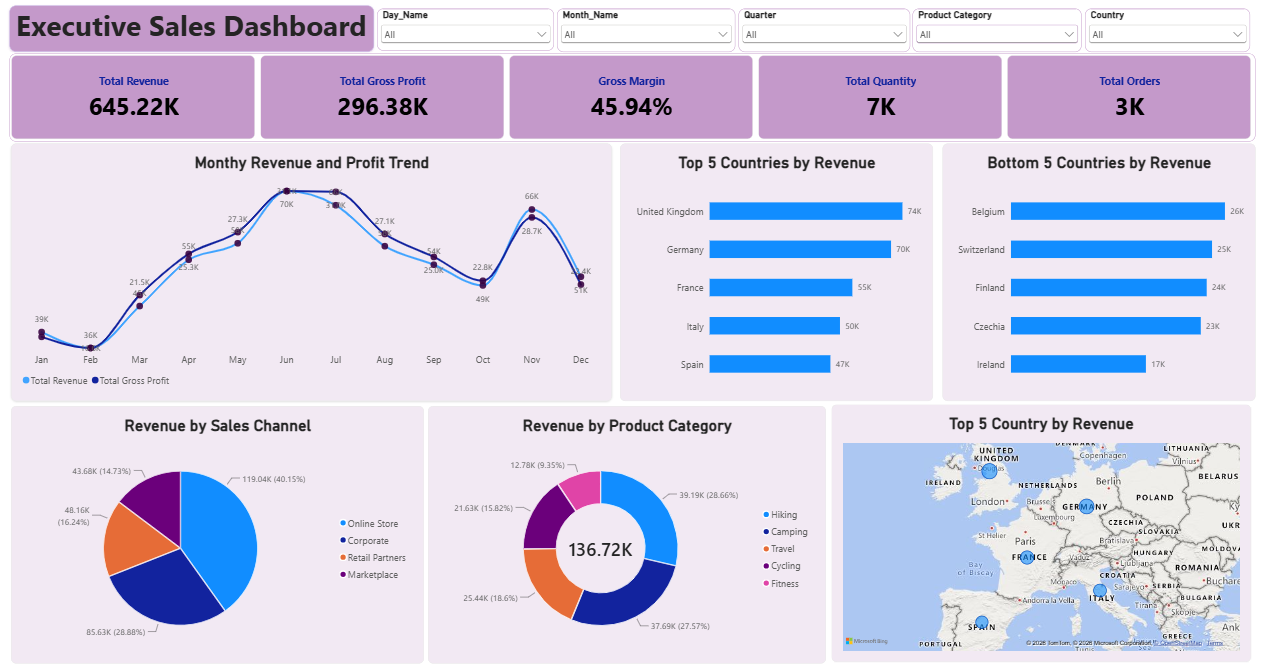

What the dashboard file says about the page in this screenshot:
{"tool":"powerbi","page":{"name":"Page 1","canvas":[1920,1080],"ordinal":0},"visuals":[{"type":"cardVisual","fields":{"Data":["All_Measures.Total Revenue","All_Measures.Total Gross Profit","All_Measures.Gross Margin","All_Measures.Total Quantity","All_Measures.Total Orders"]},"box":[15,88.3,1886.7,133.3],"z":0},{"type":"textbox","box":[16.7,16.7,551.7,70],"z":1000},{"type":"slicer","fields":{"Values":["Date_Table.Month_Name"]},"box":[844,20,270,66],"z":2000},{"type":"slicer","fields":{"Values":["Date_Table.Quarter"]},"box":[1120,20,260,66],"z":3000},{"type":"slicer","fields":{"Values":["SalesData.Product Category"]},"box":[1384,20,256,66],"z":4000},{"type":"slicer","fields":{"Values":["SalesData.Country"]},"box":[1644,20,250,66],"z":5000},{"type":"slicer","fields":{"Values":["Date_Table.Day_Name"]},"box":[572,20,268,64],"z":6000},{"type":"lineChart","title":"Monthy  Revenue and Profit Trend","fields":{"Category":["Date_Table.Month_Name"],"Y":["All_Measures.Total Revenue"],"Y2":["All_Measures.Total Gross Profit"]},"box":[18,224,910,390],"z":7000},{"type":"clusteredBarChart","title":"Top 5 Countries by Revenue","fields":{"Category":["SalesData.Country"],"Y":["All_Measures.Total Revenue"]},"box":[940,224,474,390],"z":8000},{"type":"clusteredBarChart","title":"Bottom 5 Countries by Revenue ","fields":{"Category":["SalesData.Country"],"Y":["All_Measures.Total Revenue"]},"box":[1428,224,474,390],"z":9000},{"type":"map","title":"Top 5 Country by Revenue","fields":{"Category":["SalesData.Country"],"Size":["All_Measures.Total Revenue"]},"box":[1260,620,635,390],"z":10000},{"type":"donutChart","title":"Revenue by Product Category","fields":{"Category":["SalesData.Product Category"],"Y":["All_Measures.Total Gross Profit"]},"box":[650,622.5,602.5,390],"z":11000},{"type":"pieChart","title":"Revenue by Sales Channel ","fields":{"Category":["SalesData.Sales Channel"],"Y":["All_Measures.Total Revenue"]},"box":[17.5,622.5,625,390],"z":12000}]}

Visuals, with their boxes on the page's 1920x1080 design canvas (x1, y1, x2, y2). These are canvas units, not pixel positions in the 1265x672 screenshot, which may show the page scaled, cropped or inside an application window:
cardVisual - All_Measures.Total Revenue x All_Measures.Total Gross Profit: [left=15, top=88, right=1902, bottom=222]
textbox: [left=17, top=17, right=568, bottom=87]
slicer - Date_Table.Month_Name: [left=844, top=20, right=1114, bottom=86]
slicer - Date_Table.Quarter: [left=1120, top=20, right=1380, bottom=86]
slicer - SalesData.Product Category: [left=1384, top=20, right=1640, bottom=86]
slicer - SalesData.Country: [left=1644, top=20, right=1894, bottom=86]
slicer - Date_Table.Day_Name: [left=572, top=20, right=840, bottom=84]
"Monthy  Revenue and Profit Trend" lineChart: [left=18, top=224, right=928, bottom=614]
"Top 5 Countries by Revenue" clusteredBarChart: [left=940, top=224, right=1414, bottom=614]
"Bottom 5 Countries by Revenue " clusteredBarChart: [left=1428, top=224, right=1902, bottom=614]
"Top 5 Country by Revenue" map: [left=1260, top=620, right=1895, bottom=1010]
"Revenue by Product Category" donutChart: [left=650, top=622, right=1252, bottom=1012]
"Revenue by Sales Channel " pieChart: [left=18, top=622, right=642, bottom=1012]
